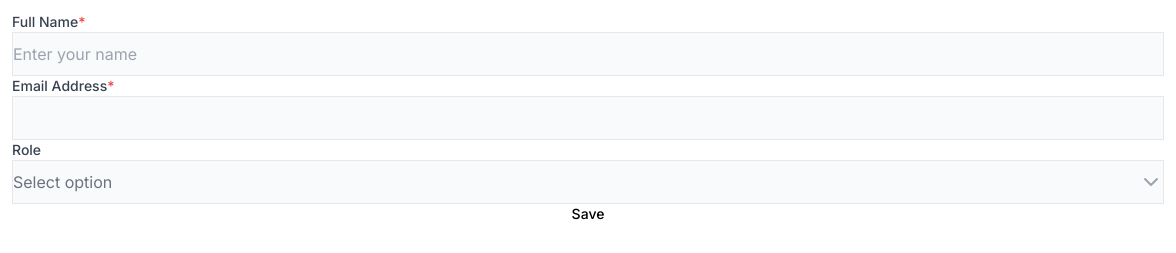
Test: Native PWA Components › NativeForm › validates custom validation rules
Type "John Doe" into the field with placeholder "Enter your name" at (588, 54), box left=12, top=32, right=1164, bottom=76
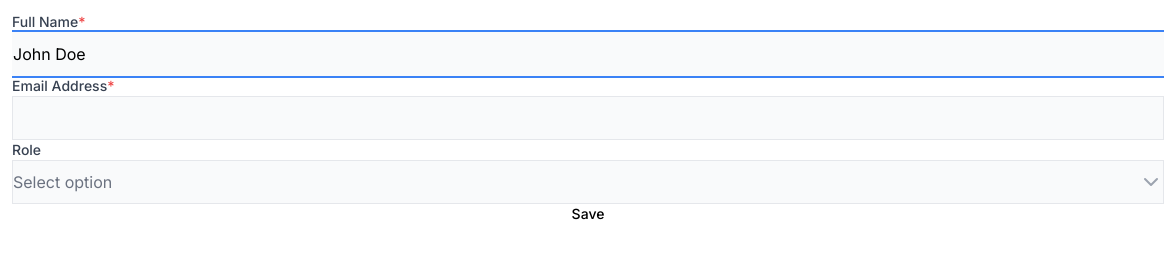
Type "invalid-email" into the field labelled "Email Address*" at (588, 118), box left=12, top=96, right=1164, bottom=140
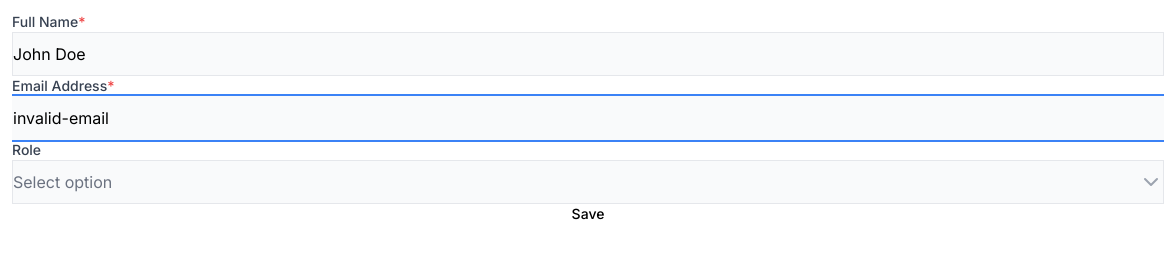
Click the button "Save" at (588, 214), box left=12, top=204, right=1164, bottom=224
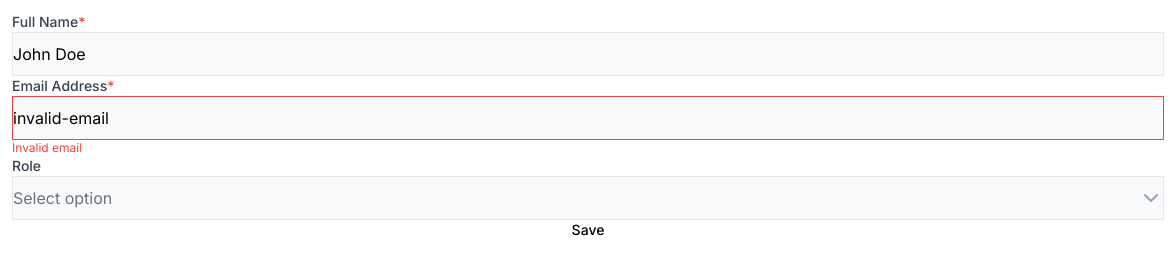
Now the text "Invalid email" is shown, box left=12, top=140, right=82, bottom=155
